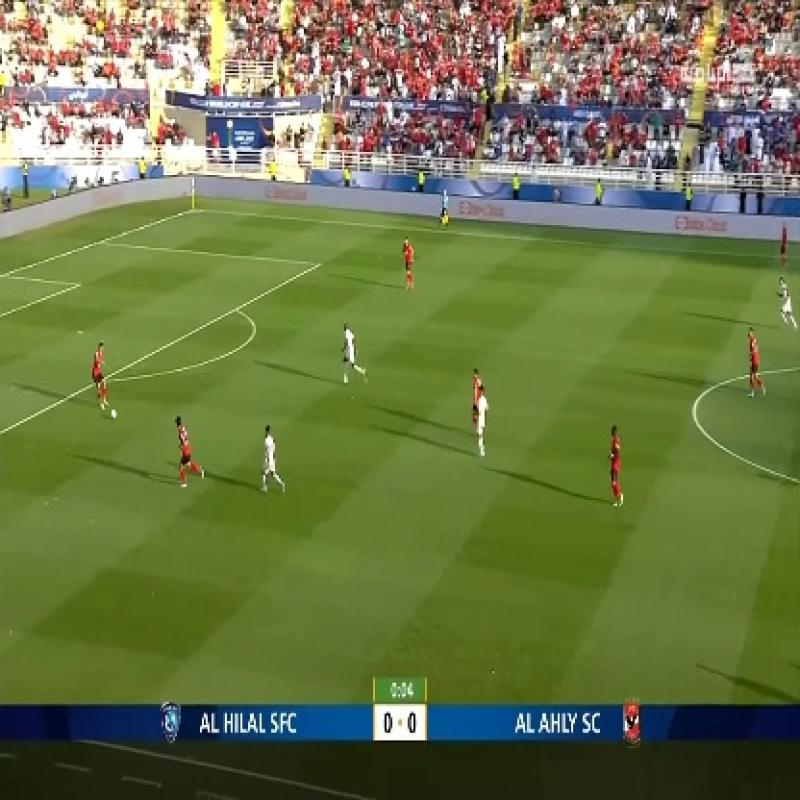1: (188, 204, 198, 212)
10: (231, 300, 240, 314)
11: (93, 370, 115, 388)
2: (98, 236, 106, 244)
3: (2, 267, 16, 283)
7: (71, 278, 83, 290)
9: (312, 255, 322, 272)
c: (686, 391, 708, 419)
